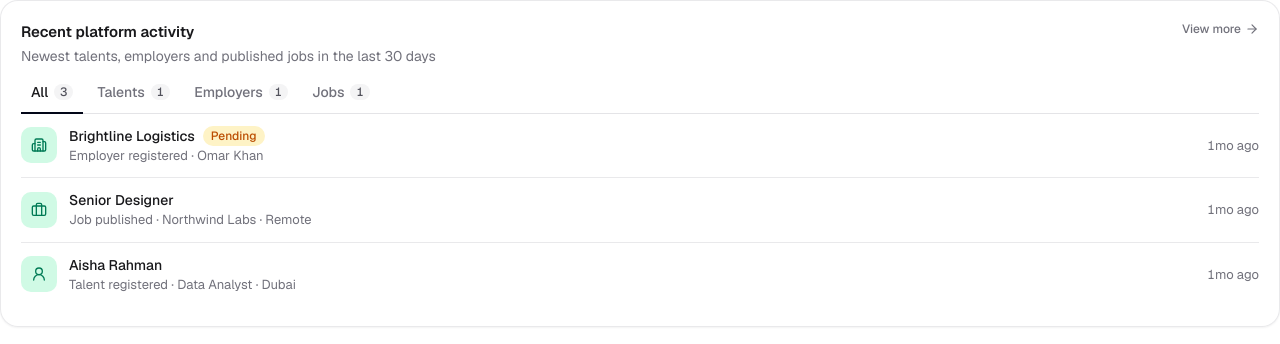
it: RecentActivity › shows only the chosen type when a tab is clicked
The width and height of the screenshot is (1280, 344).
Click the tab "Jobs 1".
click(341, 96)  # box [302,78,380,114]
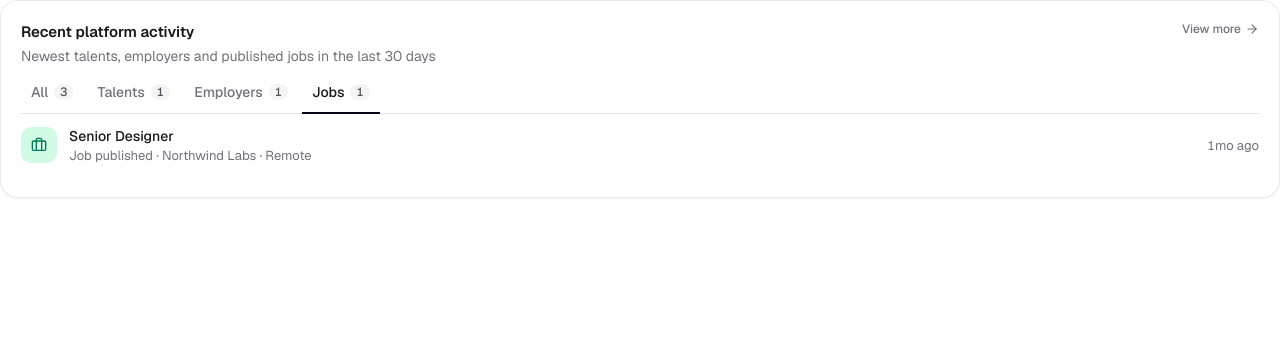
Check: the text "Senior Designer" is shown, box [69,126,174,146]
Check: the number of list items is 1, box [21,126,1259,164]
